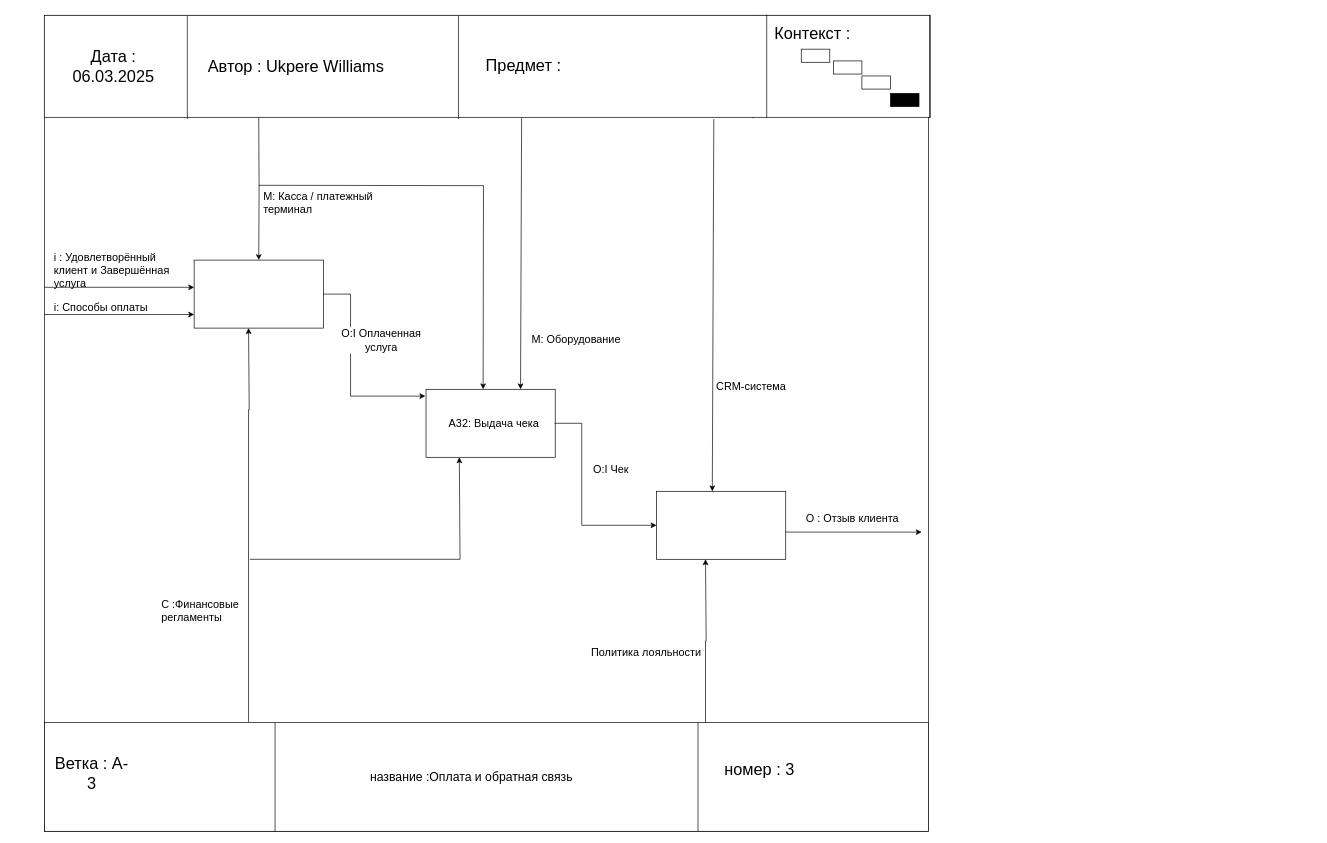
Some shapes in this 1327 by 843 pixel diagram are drawn without their labels. The centre of each missing label's shape, as x and y in pixels:
"A31: Оплата услуги" goes at pixel 258 293.
"A33: Сбор обратной связи" goes at pixel 721 525.
